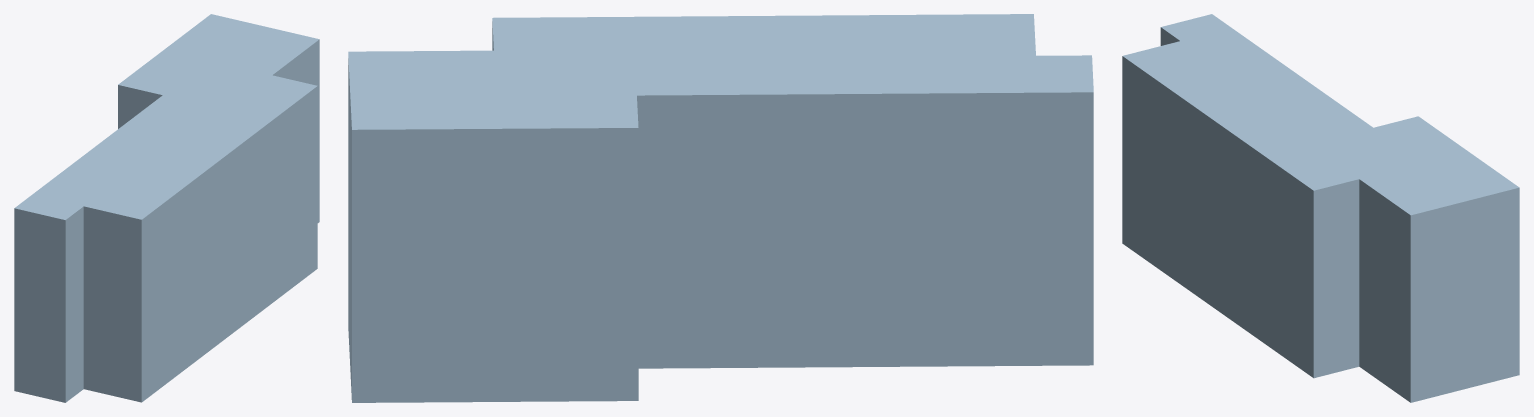
Rendered from osm_way_225250619.glb.
3 renders of one model, left to right at view 1: azimuth 30°, elevation 25°; view 2: azimuth 150°, elevation 25°; view 3: azimuth 270°, elevation 25°, orthographic. The views are drawn at different scales.
Visible parts, largest first — view 1: osm_way_225250619; view 2: osm_way_225250619; view 3: osm_way_225250619.
Part boxes in pixels (x1,y1,x2,y2): osm_way_225250619: (14,14,319,402); osm_way_225250619: (348,14,1093,402); osm_way_225250619: (1122,14,1519,402).
Size of the model in its own units: 44.21 by 19.2 by 36.85.
